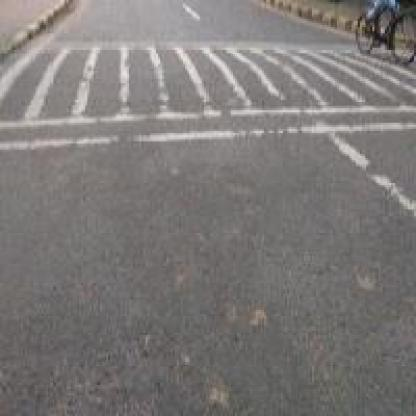Speed Bump: (0, 35, 414, 152)
